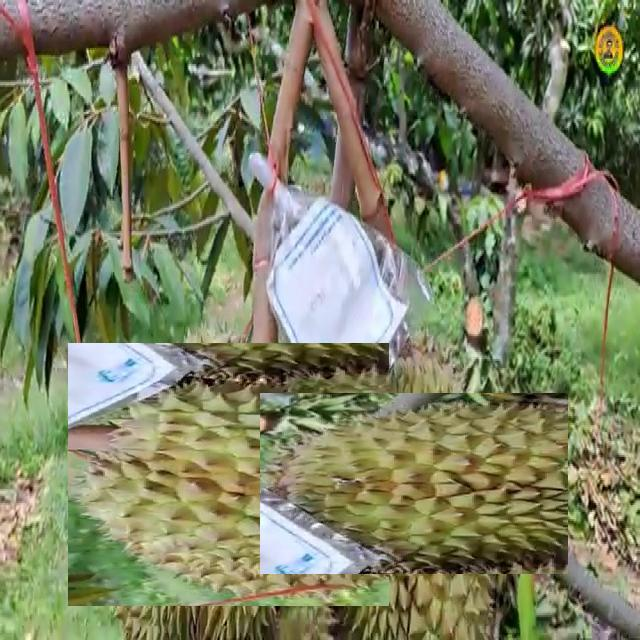durian: (82, 329, 375, 621), (292, 361, 537, 606)
